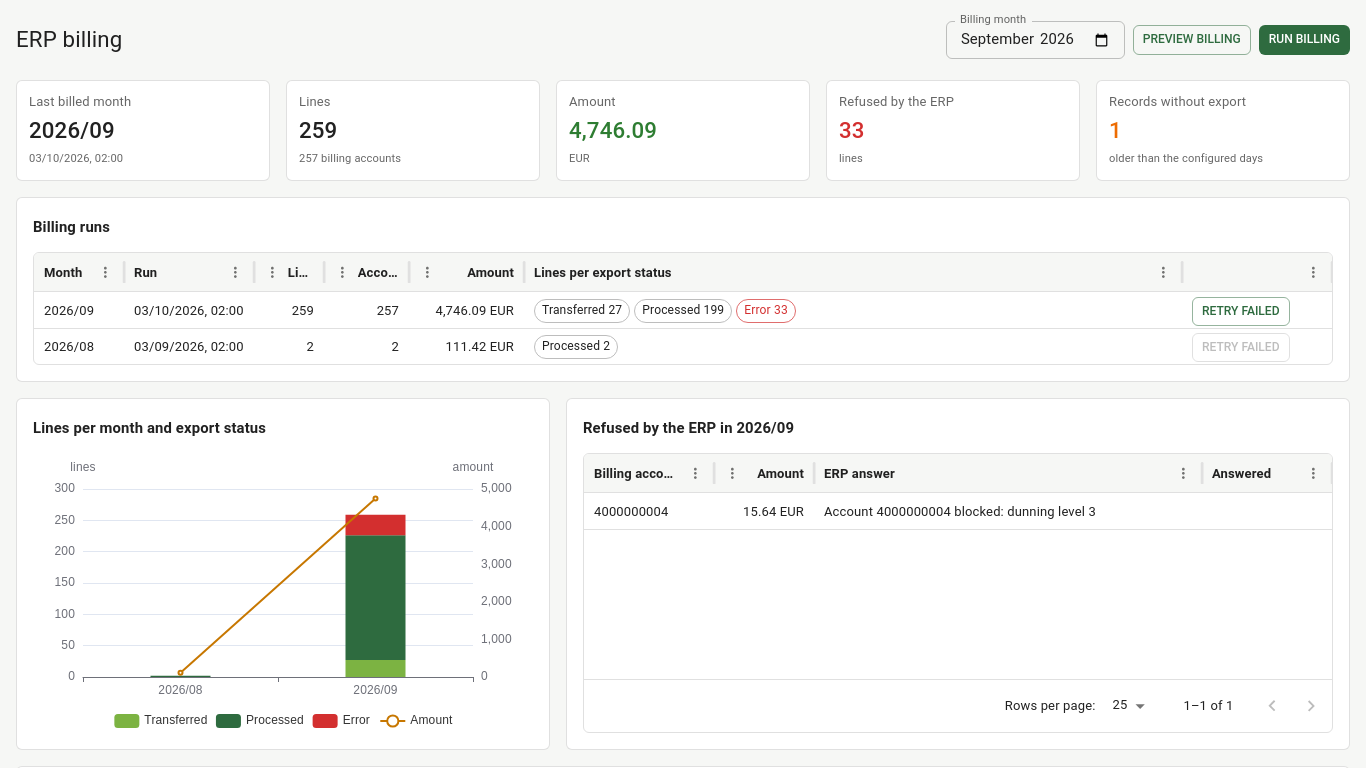
ERP billing tab › shows the refusal of a run for a month that is billed already
Click the button with test id "run-billing": click(1304, 40) [1259,25,1350,54]
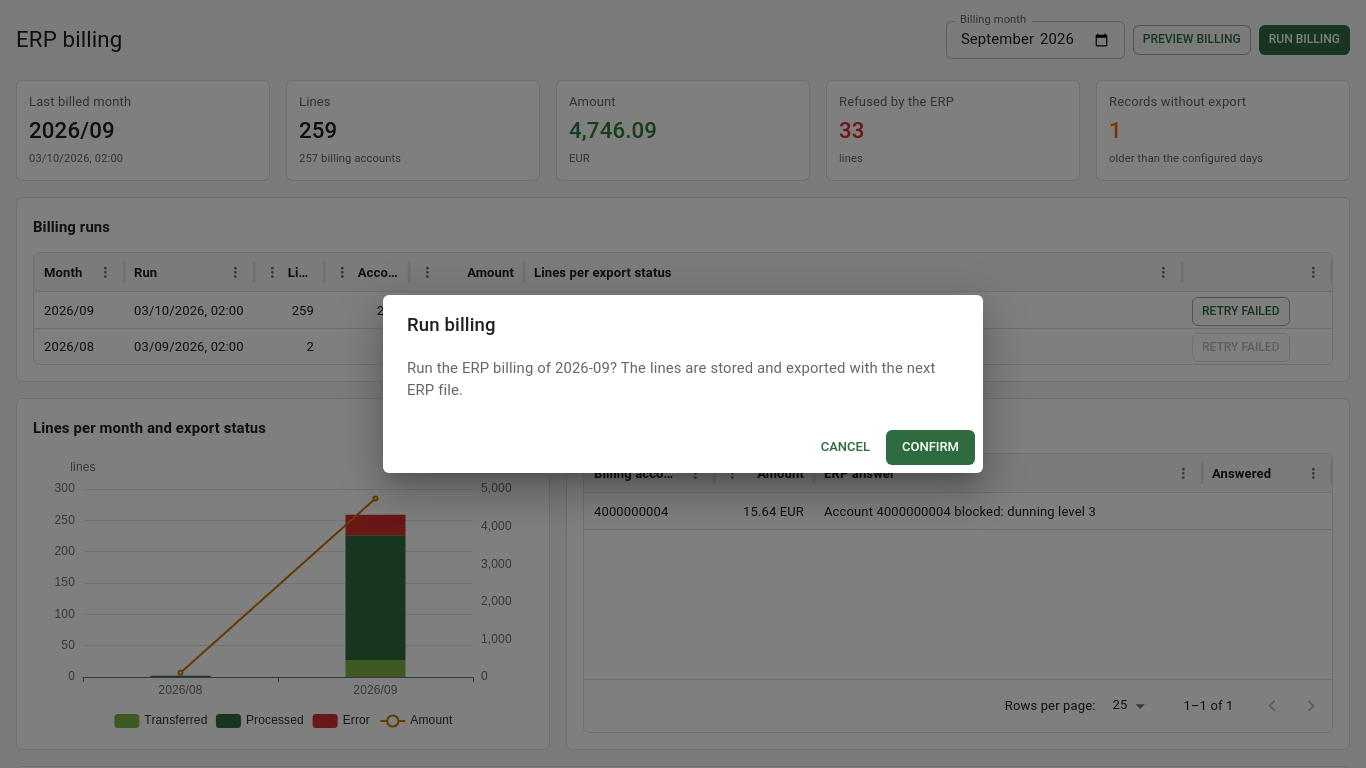
Click the button "Confirm": click(930, 447) [886,430,975,465]
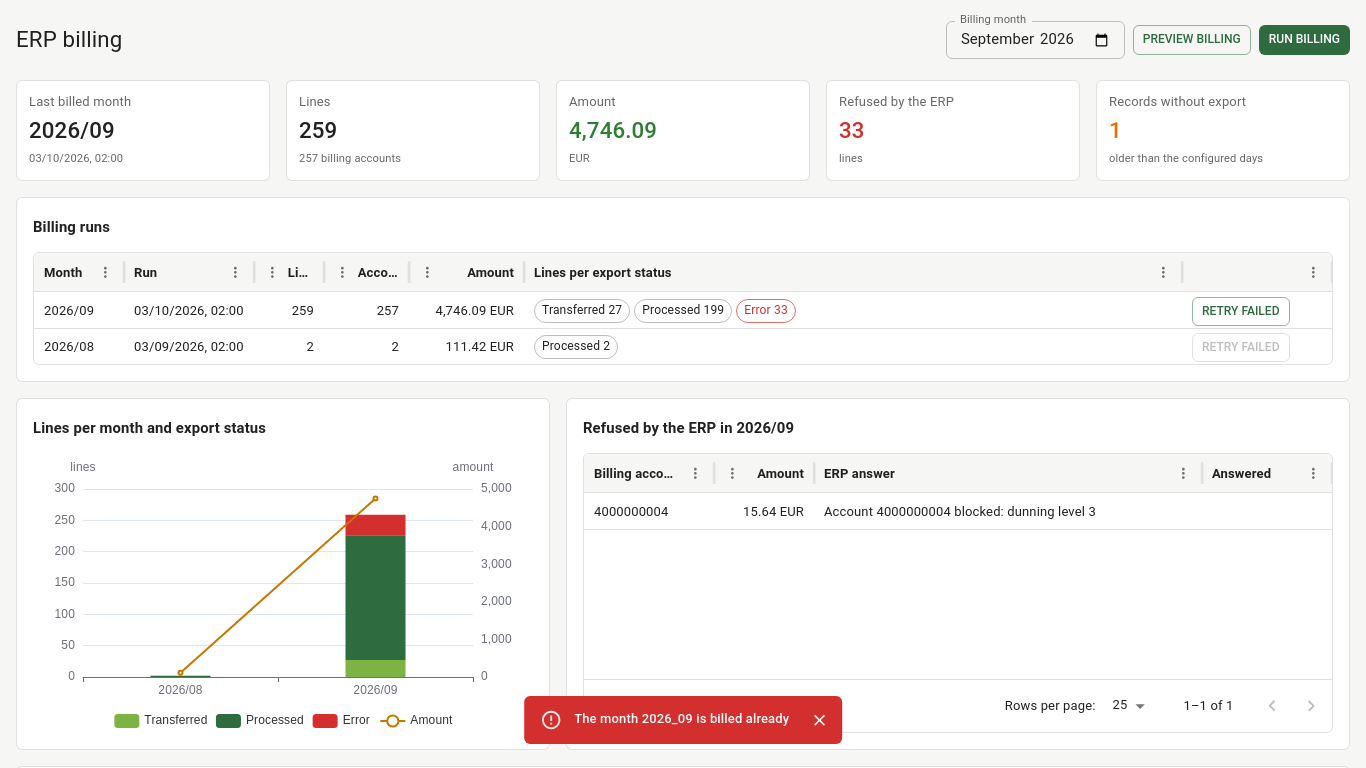
Expected: the message with test id "notification" reads "The month 2026_09 is billed already", [574,711,789,726]
